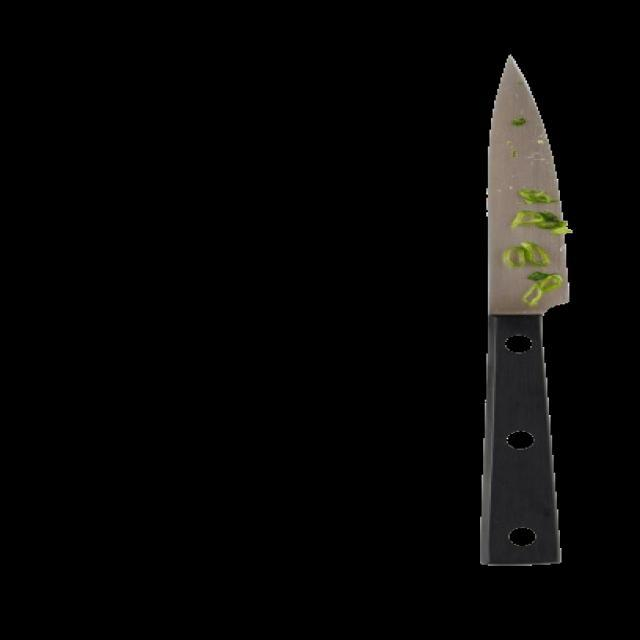knife: (475, 58, 576, 569)
